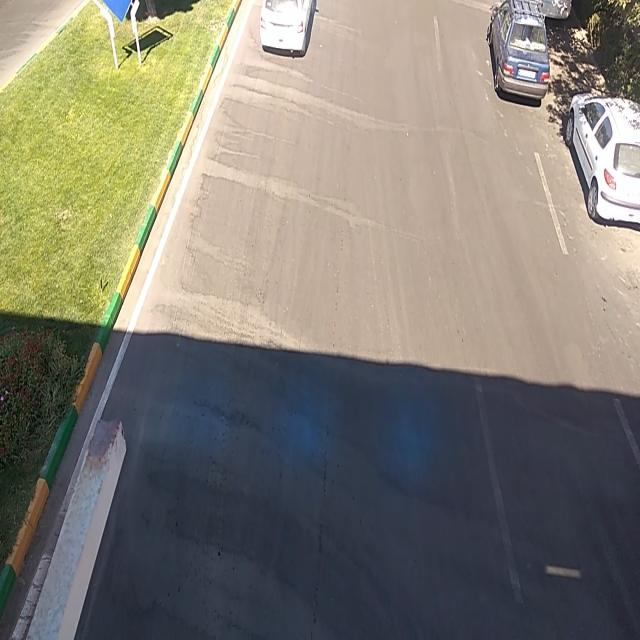car: (564, 85, 638, 224), (486, 7, 548, 102), (258, 1, 314, 55)
